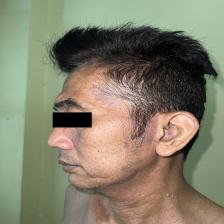Psoriasis vulgaris: (90, 86, 132, 108)
